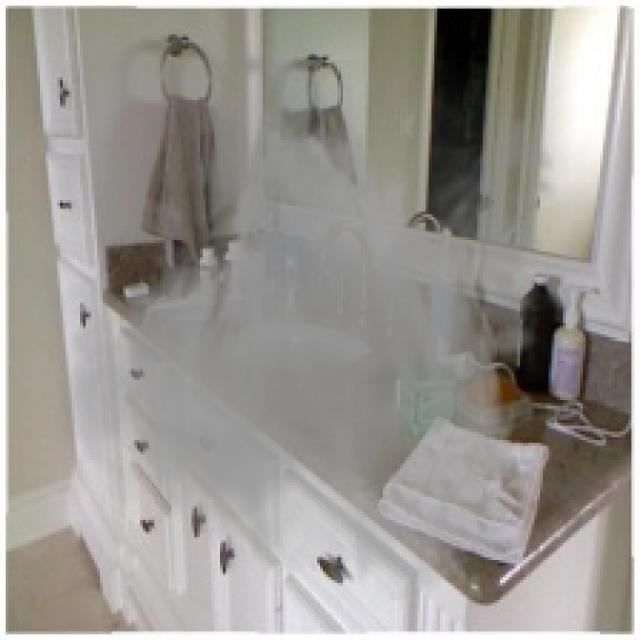Smoke: (51, 60, 572, 606)
